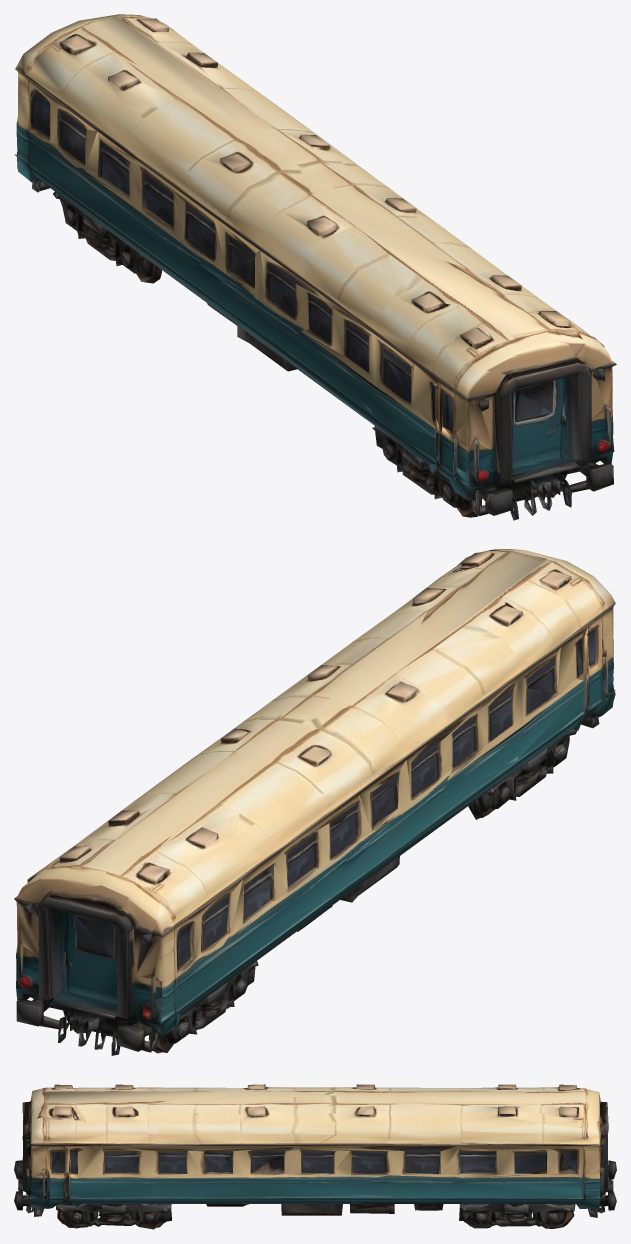
File: train.glb
3 renders of one model, top to bottom at view 1: azimuth 30°, elevation 25°; view 2: azimuth 150°, elevation 25°; view 3: azimuth 270°, elevation 25°, orthographic. The views are drawn at different scales.
Parts seen in each view (by area): view 1: TripoTrain_Mesh; view 2: TripoTrain_Mesh; view 3: TripoTrain_Mesh.
Boxes of the visible parts, box(x1,y1,x2,y2) form: TripoTrain_Mesh: box(14, 14, 616, 520); TripoTrain_Mesh: box(14, 549, 615, 1055); TripoTrain_Mesh: box(14, 1084, 616, 1229).
Size of the model in its own units: 2.6 by 3.1 by 14.
1 material, 1 textured.
